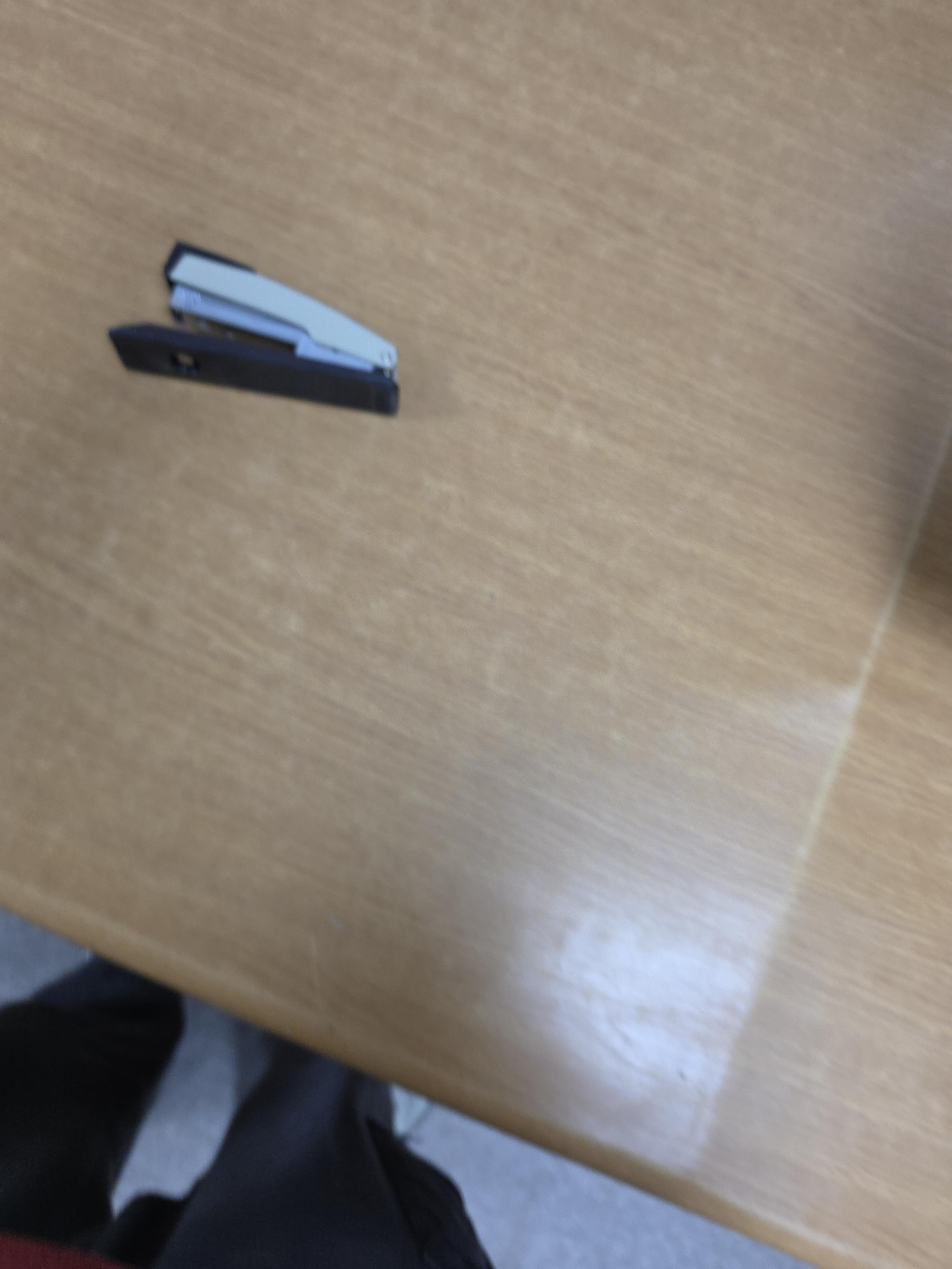stapler: (106, 240, 403, 419)
